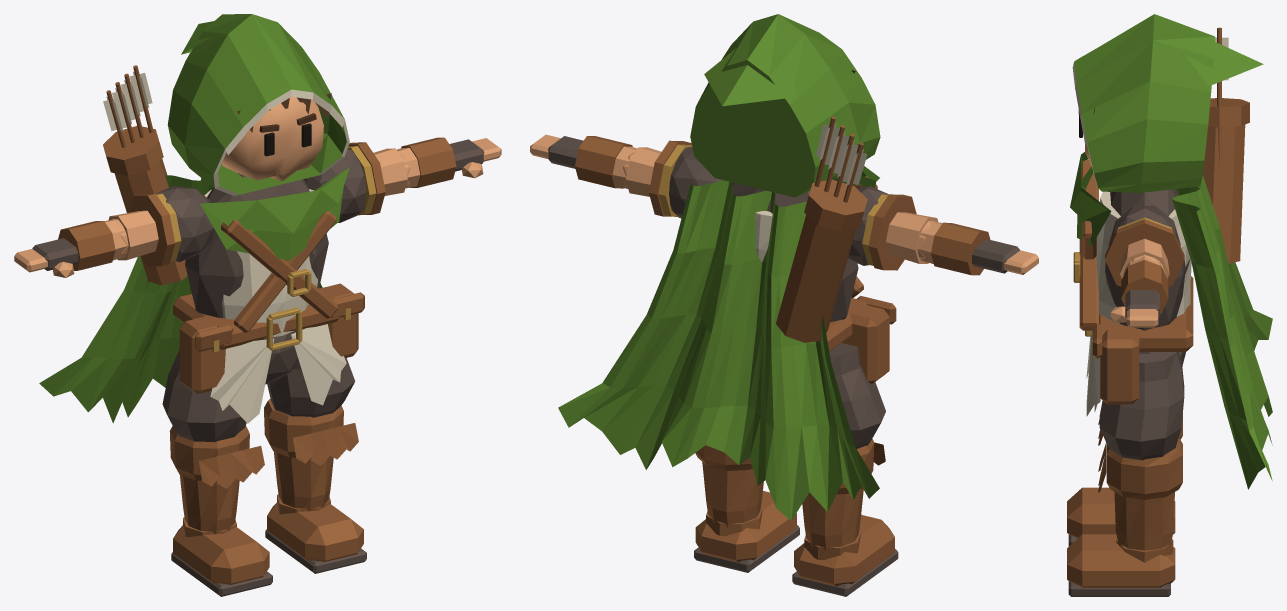
The model's file is archer.glb.
The picture shows the model from 3 angles, left to right: view 1: azimuth 30°, elevation 25°; view 2: azimuth 150°, elevation 25°; view 3: azimuth 270°, elevation 25°; orthographic projection. The views are drawn at different scales.
Visible parts, largest first — view 1: Open hood, Jagged cape, Head, Torso, Boot.L, Boot.R, Scarf folds, Thigh.L, Tunic tail.L, Shin.R, Shin.L, Tunic (+27 smaller); view 2: Jagged cape, Open hood, Quiver, Boot.L, Thigh.L, Boot.R, Shin.R, Hood rear point, Shin.L, Belt pouch.L, Quiver rim, Bracer.L (+16 smaller); view 3: Open hood, Jagged cape, Thigh.R, Boot.R, Quiver, Boot cuff.R, Shin.R, Belt pouch.R, Torso, Sleeve trim leather.R, Boot.L, Tunic (+17 smaller).
Boxes of the visible parts, <box> form: Open hood: <box>167,14,346,195</box>; Jagged cape: <box>39,175,322,423</box>; Head: <box>221,97,323,181</box>; Torso: <box>185,173,328,317</box>; Boot.L: <box>173,525,269,584</box>; Boot.R: <box>267,502,363,561</box>; Scarf folds: <box>199,167,349,233</box>; Thigh.L: <box>162,349,246,442</box>; Tunic tail.L: <box>210,338,274,423</box>; Shin.R: <box>274,451,333,511</box>; Shin.L: <box>180,474,239,534</box>; Tunic: <box>204,189,317,338</box>; Jagged cape: <box>558,180,879,520</box>; Open hood: <box>690,14,880,197</box>; Quiver: <box>776,214,855,342</box>; Boot.L: <box>794,515,894,586</box>; Thigh.L: <box>829,342,885,448</box>; Boot.R: <box>695,491,796,562</box>; Shin.R: <box>702,462,763,527</box>; Hood rear point: <box>704,48,797,106</box>; Shin.L: <box>802,488,863,551</box>; Belt pouch.L: <box>842,303,889,384</box>; Quiver rim: <box>804,179,867,231</box>; Bracer.L: <box>931,222,990,275</box>; Open hood: <box>1074,14,1215,192</box>; Jagged cape: <box>1172,175,1272,489</box>; Thigh.R: <box>1099,352,1184,460</box>; Boot.R: <box>1067,534,1175,587</box>; Quiver: <box>1202,124,1245,263</box>; Boot cuff.R: <box>1106,437,1182,499</box>; Shin.R: <box>1114,492,1174,550</box>; Belt pouch.R: <box>1100,327,1139,404</box>; Torso: <box>1105,189,1190,330</box>; Sleeve trim leather.R: <box>1105,219,1184,286</box>; Boot.L: <box>1067,487,1175,538</box>; Tunic: <box>1096,191,1191,323</box>.
Bounding box in the file's own units: 2.02 × 2.18 × 0.742.
